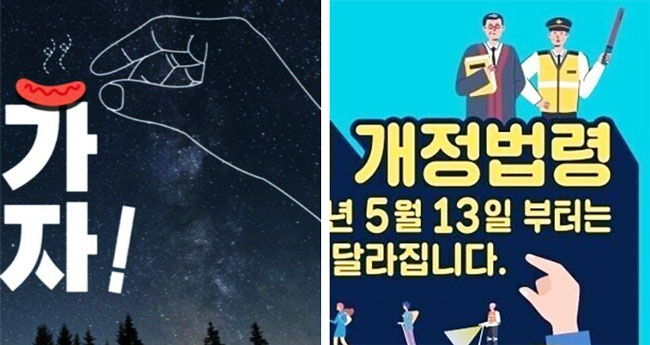megal: (75, 3, 321, 229), (490, 245, 594, 341)
